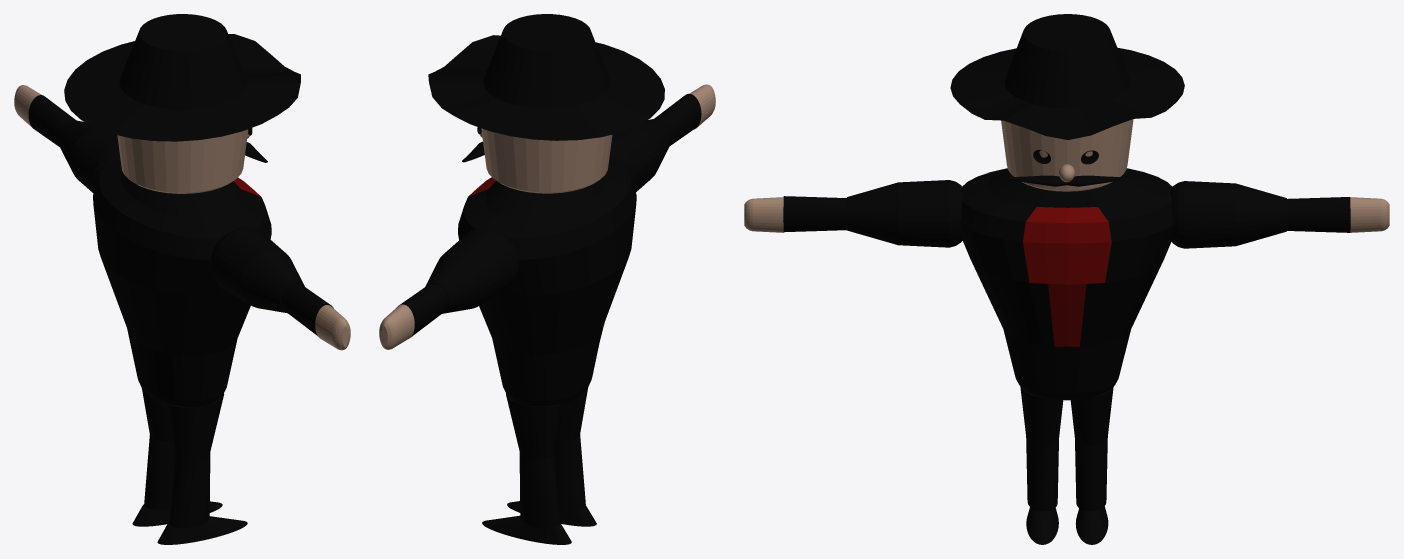
File: boss.fbx
3 views of the same model, side by side, from view 1: azimuth 30°, elevation 25°; view 2: azimuth 150°, elevation 25°; view 3: azimuth 270°, elevation 25° (orthographic).
Visible parts, largest first — view 1: Cylinder.008, Cylinder.001, Headd.004, Cylinder.009, Cylinder.011, Cylinder.012, Cylinder.010, Cylinder.004, Cylinder.003, Cylinder.013, Cylinder.006, Cylinder.005 (+1 smaller); view 2: Cylinder.008, Cylinder.001, Headd.004, Cylinder.010, Cylinder.012, Cylinder.011, Cylinder.009, Cylinder.005, Cylinder.013, Cylinder.003, Cylinder.007, Cylinder.004 (+1 smaller); view 3: Cylinder.008, Cylinder.001, Cylinder.009, Cylinder.010, Headd.004, Cylinder.011, Cylinder.012, Cylinder.003, Cylinder.013, Cylinder.006, Cylinder.007, Cylinder.004 (+2 smaller).
Part boxes in pixels (box(x1,y1,x2,y2)): Cylinder.008: box(93, 159, 271, 406); Cylinder.001: box(64, 14, 300, 141); Headd.004: box(117, 129, 248, 193); Cylinder.009: box(210, 227, 304, 313); Cylinder.011: box(166, 393, 224, 528); Cylinder.012: box(142, 388, 175, 509); Cylinder.010: box(58, 120, 120, 193); Cylinder.004: box(157, 516, 247, 544); Cylinder.003: box(281, 283, 333, 335); Cylinder.013: box(28, 95, 76, 146); Cylinder.006: box(315, 305, 350, 350); Cylinder.005: box(132, 501, 222, 526); Cylinder.008: box(458, 159, 636, 406); Cylinder.001: box(428, 14, 664, 140); Headd.004: box(481, 128, 612, 193); Cylinder.010: box(425, 228, 519, 313); Cylinder.012: box(506, 393, 563, 527); Cylinder.011: box(554, 387, 588, 509); Cylinder.009: box(609, 118, 671, 192); Cylinder.005: box(482, 515, 571, 544); Cylinder.013: box(397, 283, 448, 336); Cylinder.003: box(654, 93, 701, 145); Cylinder.007: box(379, 304, 414, 349); Cylinder.004: box(507, 501, 596, 526); Cylinder.008: box(960, 168, 1174, 400); Cylinder.001: box(950, 14, 1184, 139); Cylinder.009: box(846, 180, 964, 247); Cylinder.010: box(1170, 181, 1287, 248); Headd.004: box(1001, 119, 1133, 191); Cylinder.011: box(1020, 387, 1063, 511); Cylinder.012: box(1070, 387, 1113, 511); Cylinder.003: box(783, 196, 846, 232); Cylinder.013: box(1287, 197, 1350, 232); Cylinder.006: box(744, 197, 783, 232); Cylinder.007: box(1350, 197, 1389, 232); Cylinder.004: box(1026, 507, 1058, 544).
Size of the model in its own units: 302 by 695 by 833.
